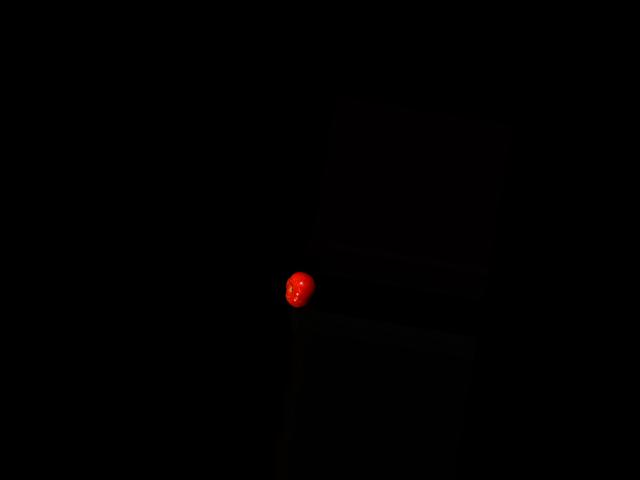tomato: (282, 268, 319, 310)
